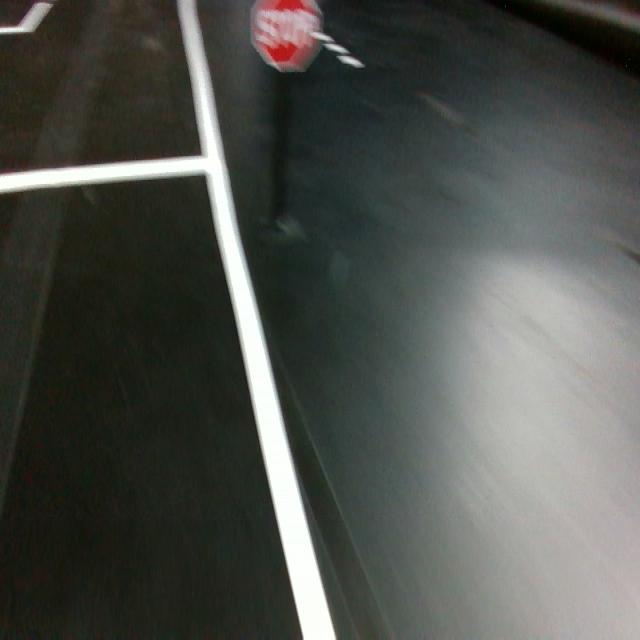stop-sign: (249, 0, 323, 72)
